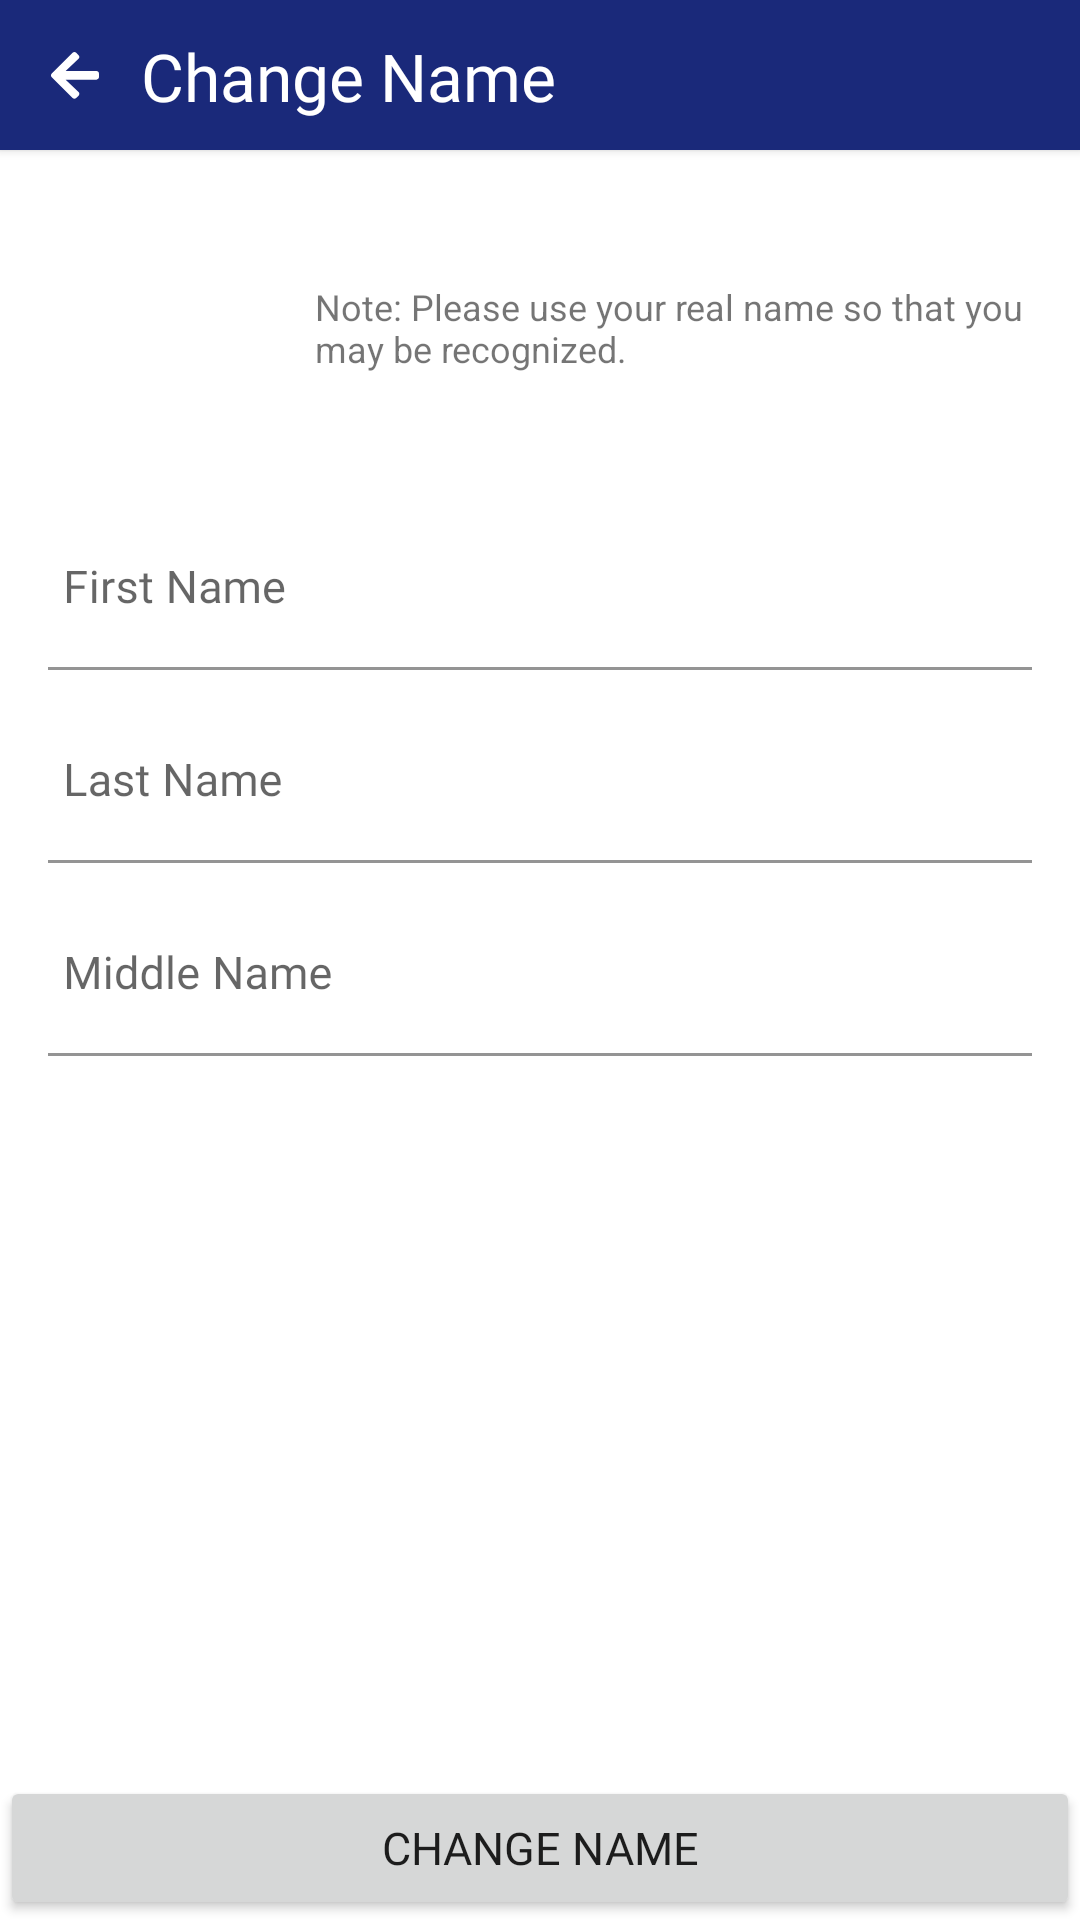

Icons on this 1080 x 1920 Android screen, each with its box as (left=x1, top=y1, right=x2, bottom=y2):
arrow left: (left=51, top=52, right=99, bottom=99)
